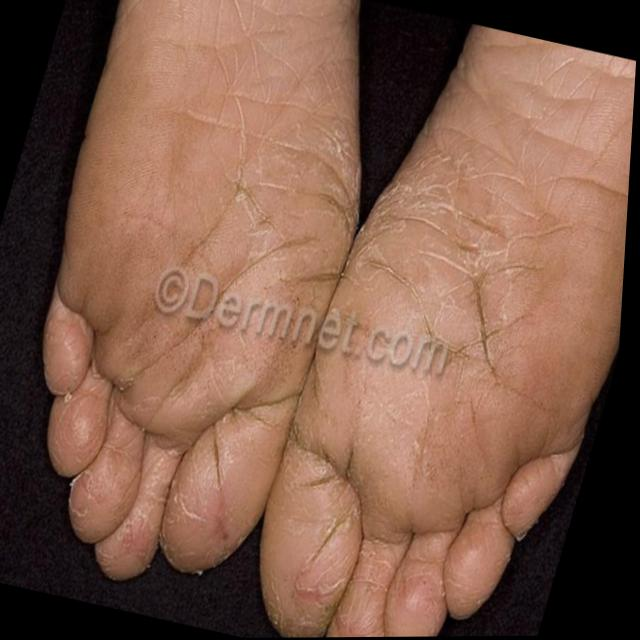liquenificacion 1: (95, 0, 636, 560)
